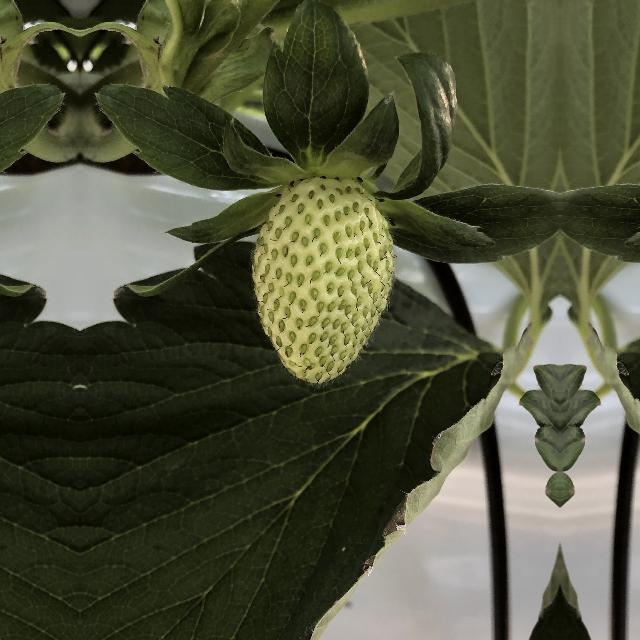Health_25: (254, 172, 396, 388)
